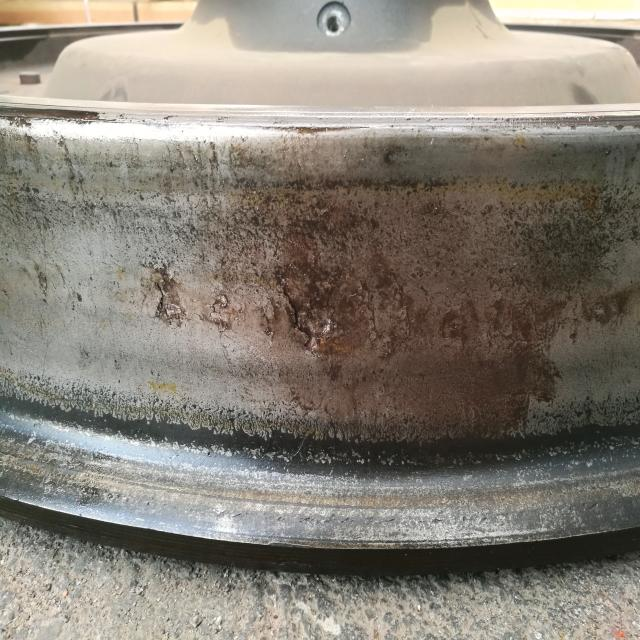Peeling: (274, 240, 347, 352), (366, 263, 412, 357), (488, 303, 541, 351), (152, 260, 185, 323), (442, 306, 473, 347), (211, 293, 232, 331), (259, 306, 274, 339), (124, 471, 125, 472)
